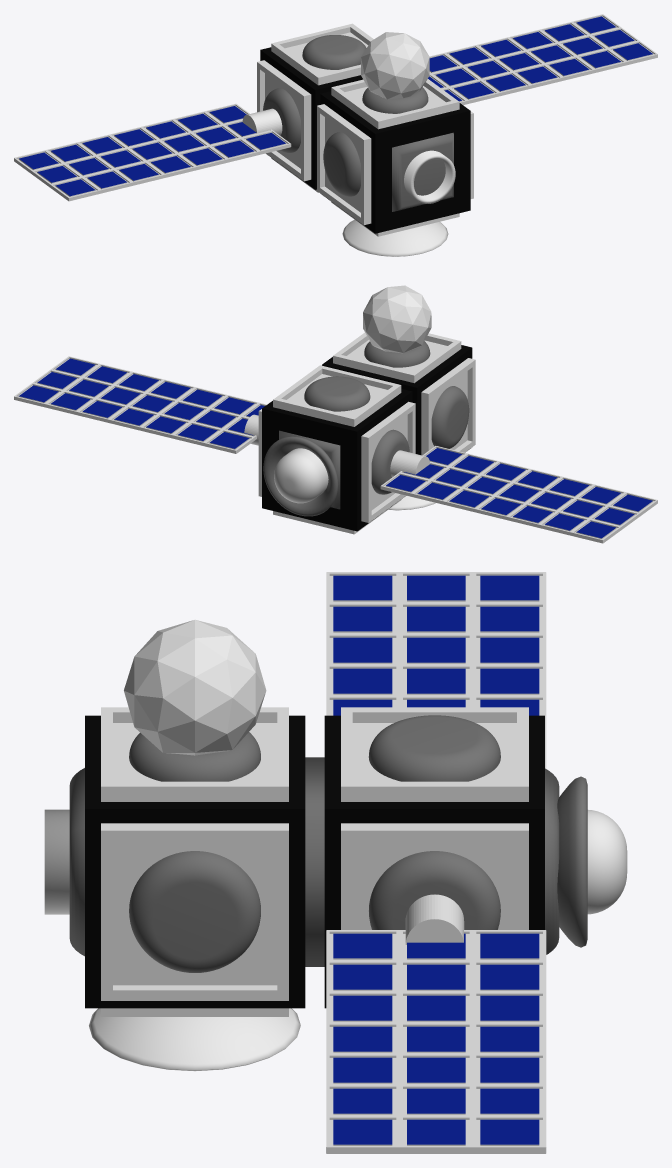
The model's file is civ_sat_2_7.glb.
The picture shows the model from 3 angles, top to bottom: view 1: azimuth 30°, elevation 25°; view 2: azimuth 150°, elevation 25°; view 3: azimuth 270°, elevation 25°; orthographic projection. The views are drawn at different scales.
Visible parts, largest first — view 1: Cube.030; view 2: Cube.030; view 3: Cube.030.
Part boxes in pixels (bbox=[...]): Cube.030: bbox=[14, 14, 657, 256]; Cube.030: bbox=[14, 285, 657, 543]; Cube.030: bbox=[44, 572, 627, 1153].
Size of the model in its own units: 37.09 by 11.97 by 15.87.
